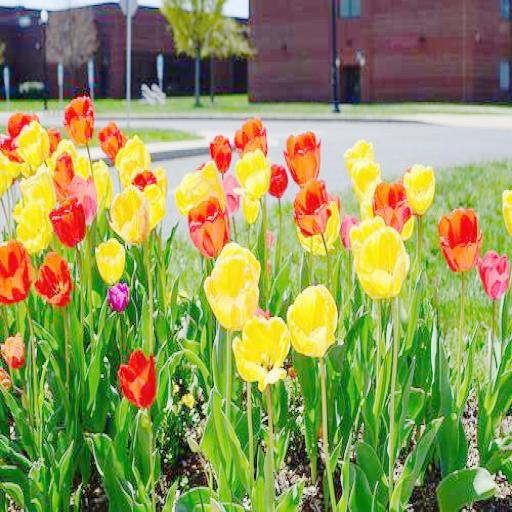tulip: (205, 244, 259, 330), (233, 317, 292, 387), (353, 230, 410, 296), (287, 286, 337, 354), (440, 206, 484, 272), (186, 196, 230, 256), (110, 184, 150, 246), (118, 350, 158, 405), (293, 181, 333, 235), (282, 130, 324, 181), (35, 252, 74, 303), (234, 150, 272, 198), (51, 200, 85, 248), (63, 94, 94, 144), (480, 249, 510, 297), (96, 238, 126, 280), (209, 135, 232, 170)
